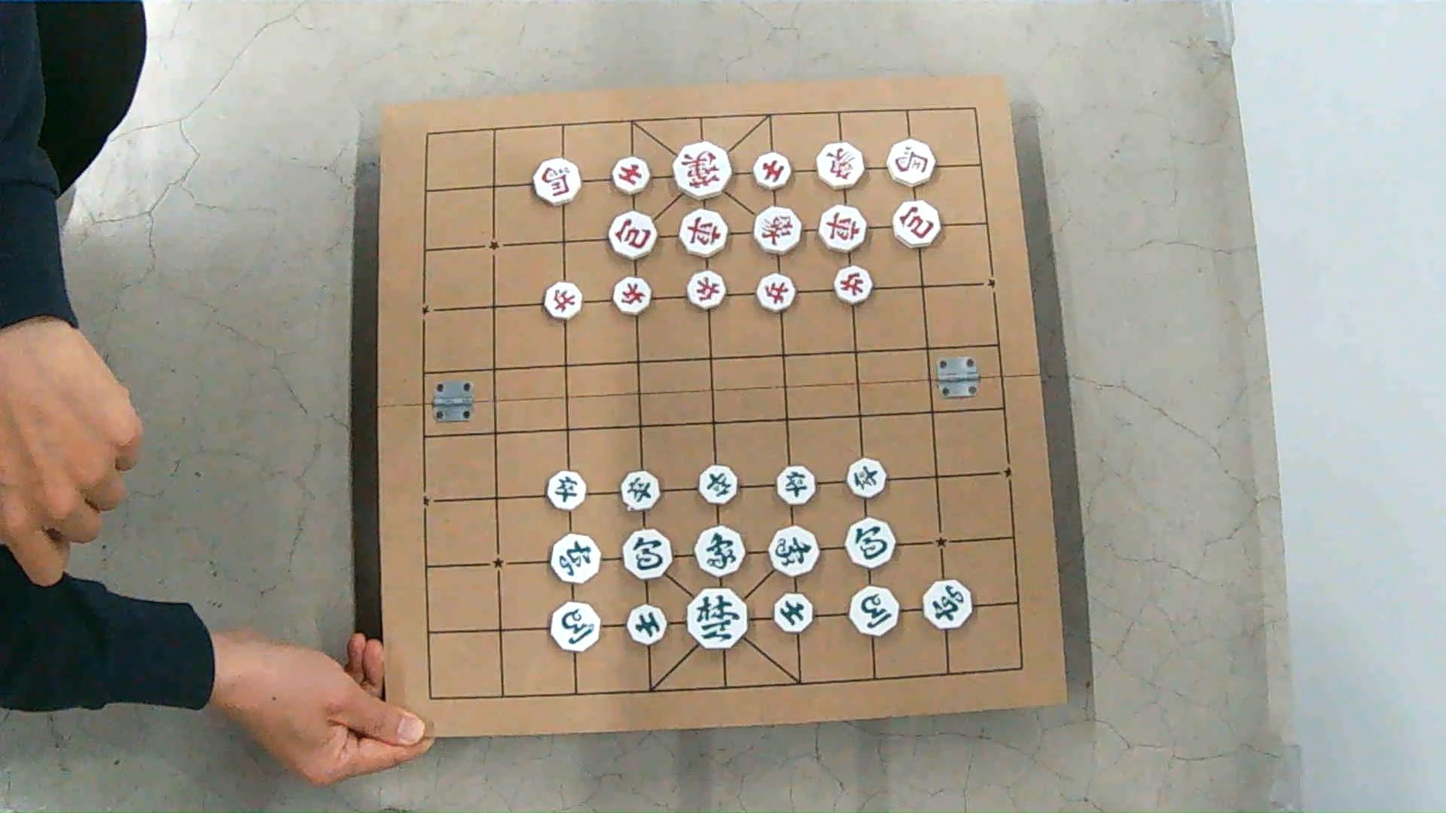cha_green: (922, 580, 972, 629), (551, 534, 599, 583)
cha_red: (679, 209, 727, 257), (818, 205, 865, 252)
jol_green: (847, 458, 886, 498), (621, 470, 659, 510), (776, 467, 816, 505), (547, 470, 585, 510), (699, 465, 737, 504)
jol_red: (686, 270, 725, 309), (756, 274, 795, 312), (834, 266, 872, 304), (613, 276, 650, 315), (544, 282, 581, 319)
ma_green: (551, 602, 599, 651), (850, 587, 898, 635)
ma_red: (886, 139, 935, 187), (534, 158, 581, 206)
po_green: (623, 529, 672, 580), (846, 518, 894, 568)
po_red: (608, 212, 656, 260), (892, 201, 939, 248)
sa_green: (627, 604, 666, 644), (773, 593, 812, 632)
sa_red: (752, 152, 792, 190), (612, 157, 650, 195)
sang_green: (696, 526, 745, 577), (770, 526, 818, 577)
sang_red: (753, 206, 801, 254), (816, 143, 863, 189)
wang_green: (687, 588, 748, 649)
wang_red: (675, 142, 732, 199)
